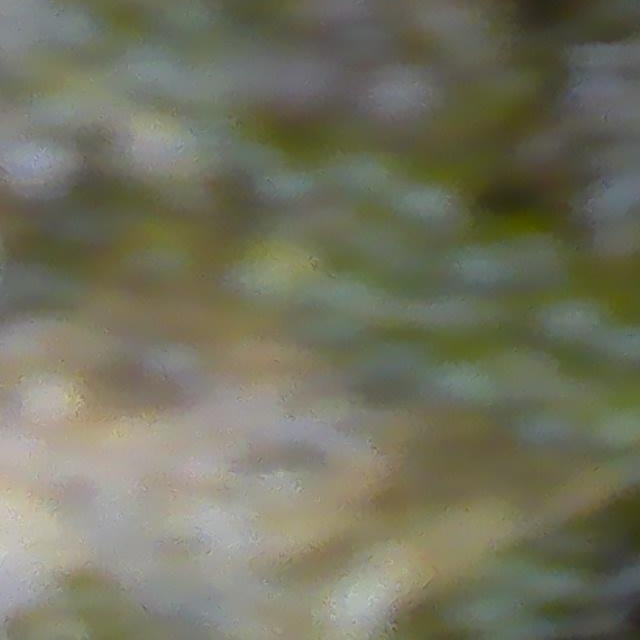SeaGrape: (371, 83, 470, 140)
